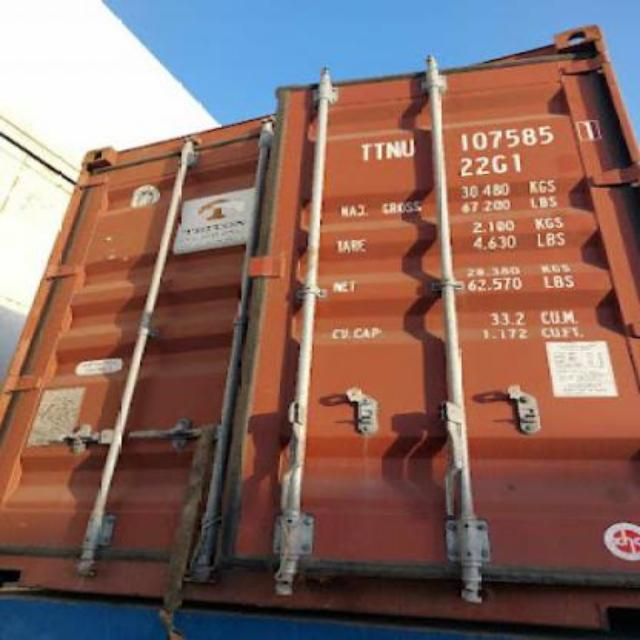0: (472, 130, 488, 150)
1: (458, 132, 468, 152)
5: (502, 127, 522, 147), (534, 126, 554, 144)
7: (488, 128, 502, 148)
8: (522, 128, 536, 148)
N: (388, 141, 400, 157)
T: (372, 140, 386, 162), (358, 143, 374, 161)
U: (400, 139, 416, 159)
